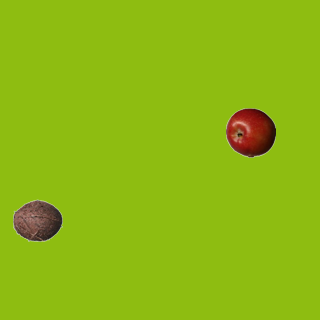Apple Braeburn: (225, 107, 275, 157)
Cocos: (12, 195, 62, 245)
